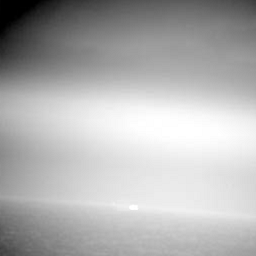Target: (127, 203, 140, 211)
